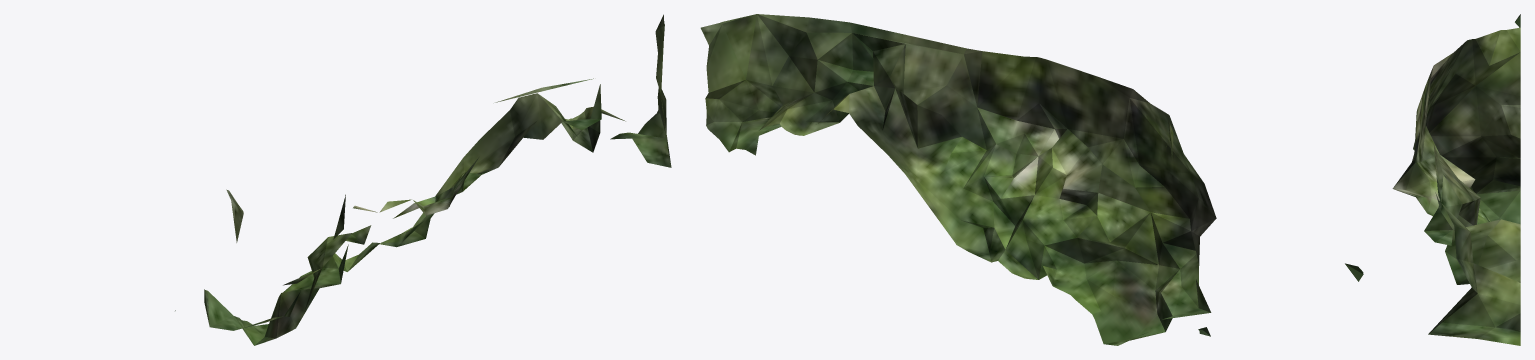
The picture shows the model from 3 angles, left to right: view 1: azimuth 30°, elevation 25°; view 2: azimuth 150°, elevation 25°; view 3: azimuth 270°, elevation 25°; orthographic projection. The views are drawn at different scales.
Size of the model in its own units: 42.69 by 13.42 by 7.45.
1 material, 1 textured.
